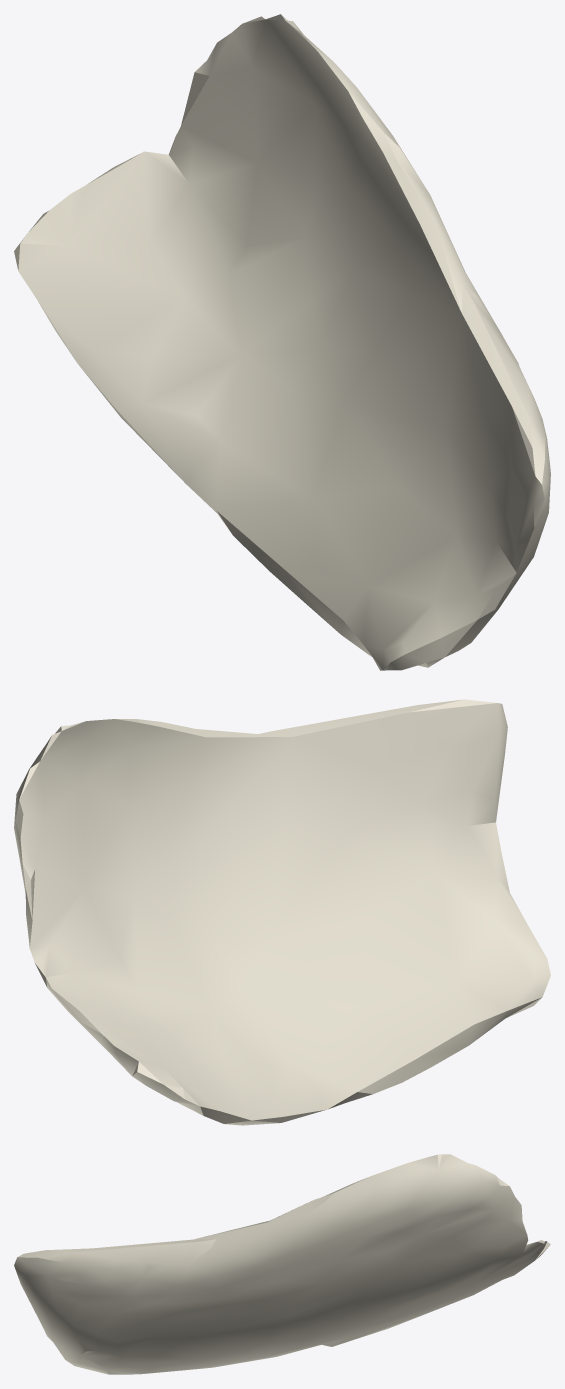
The model's file is fma321699-r_mm1458m.glb.
3 renders of one model, top to bottom at view 1: azimuth 30°, elevation 25°; view 2: azimuth 150°, elevation 25°; view 3: azimuth 270°, elevation 25°, orthographic. The views are drawn at different scales.
Visible parts, largest first — view 1: FMA321699-R_MM1458M; view 2: FMA321699-R_MM1458M; view 3: FMA321699-R_MM1458M.
Boxes of the visible parts, x1=… form: FMA321699-R_MM1458M: x1=14, y1=14, x2=550, y2=670; FMA321699-R_MM1458M: x1=14, y1=699, x2=550, y2=1125; FMA321699-R_MM1458M: x1=14, y1=1154, x2=550, y2=1374.
Bounding box in the file's own units: 0.00255 × 0.00431 × 0.00794.
